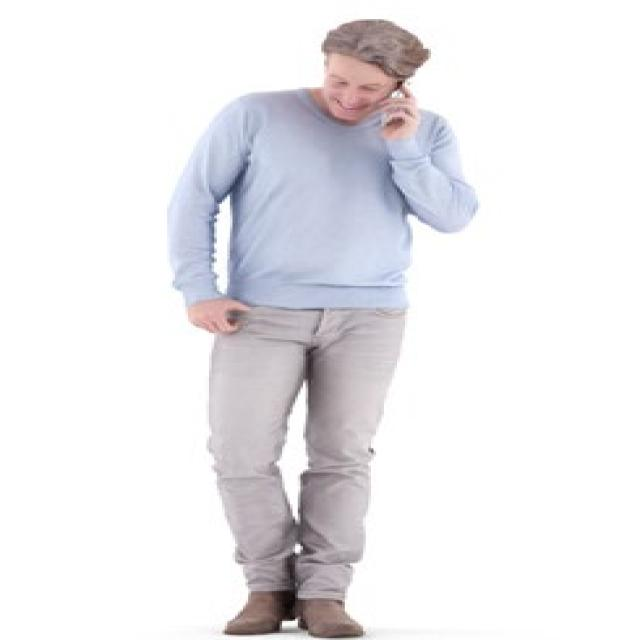standing: (160, 14, 488, 640)
